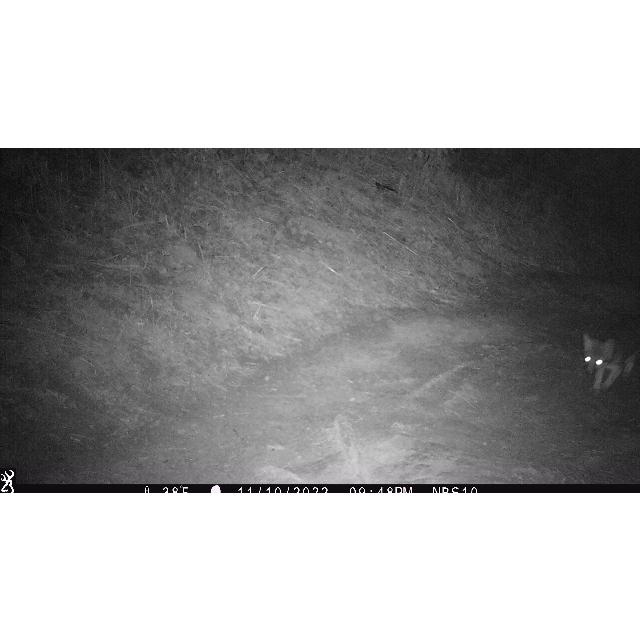animals: (582, 321, 640, 394)
